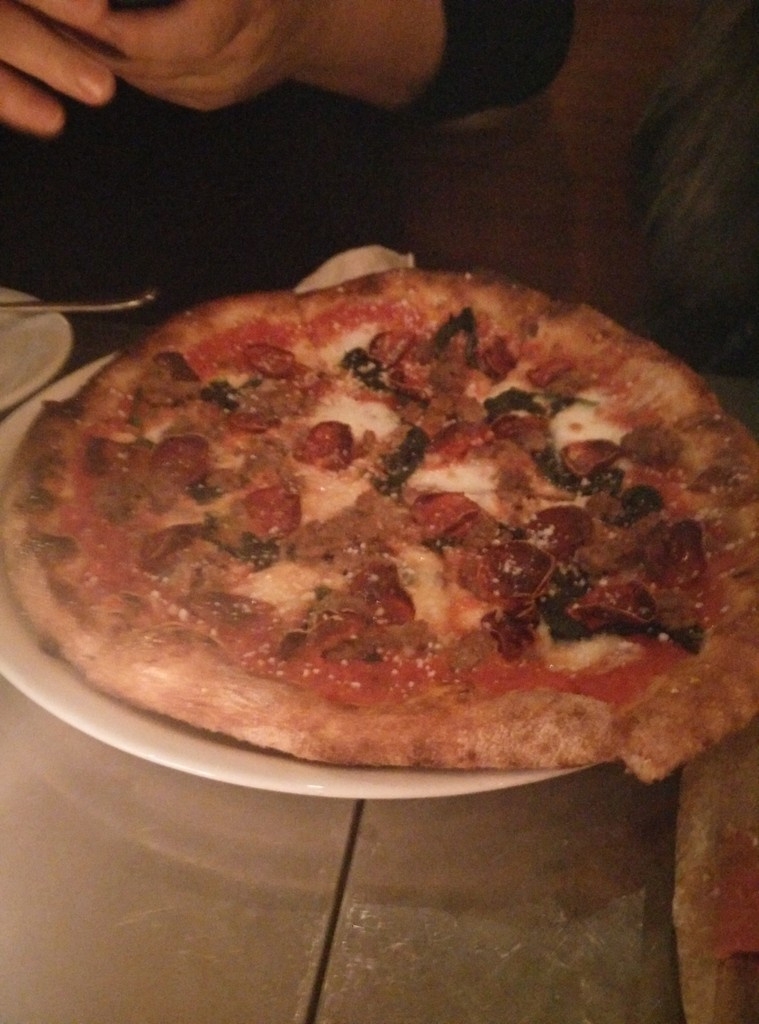Pizza: (18, 246, 759, 792)
